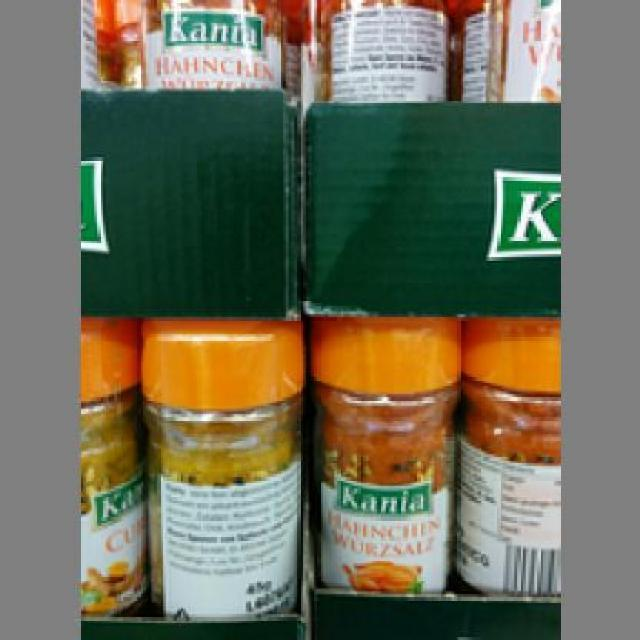Spices: (140, 317, 303, 614), (308, 312, 458, 592), (454, 314, 560, 594)
